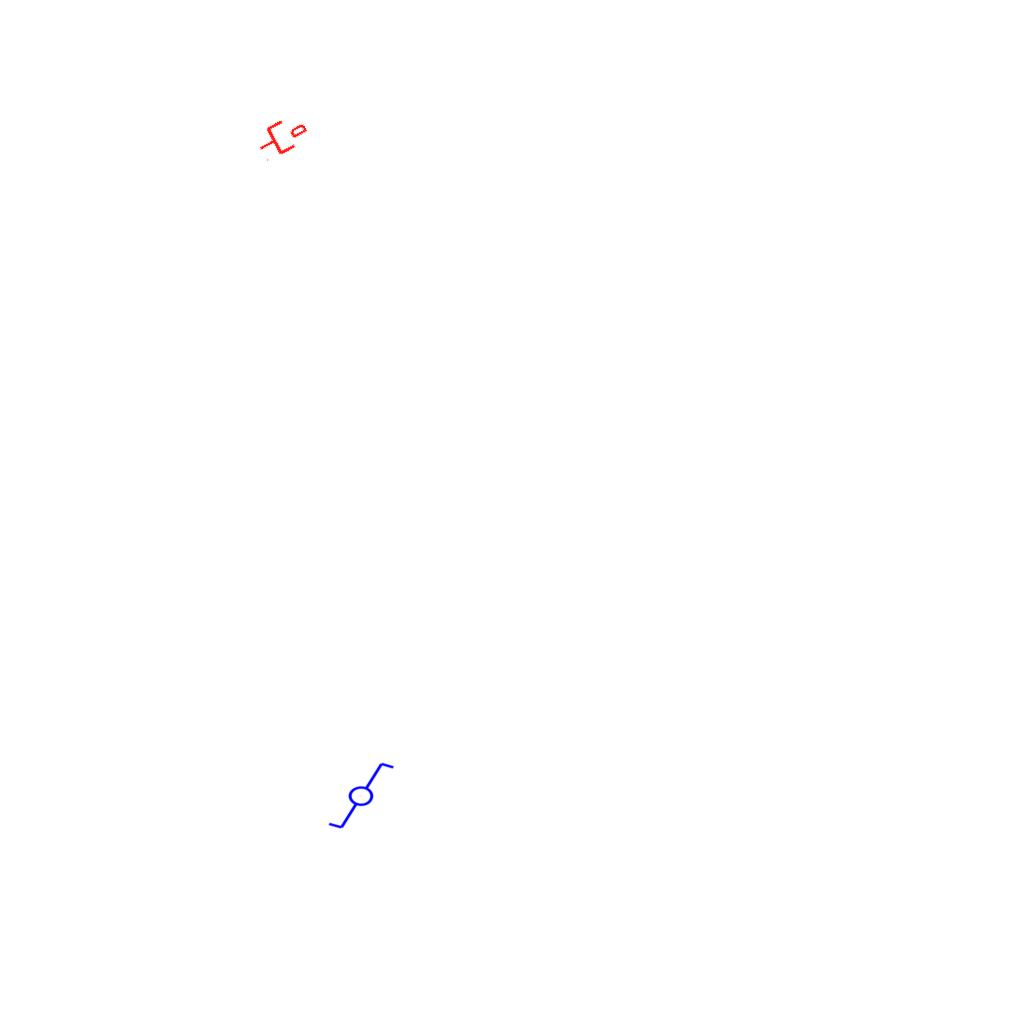Datenanschluss_einfach: (251, 110, 313, 164)
Wechselschalter: (318, 759, 396, 831)
